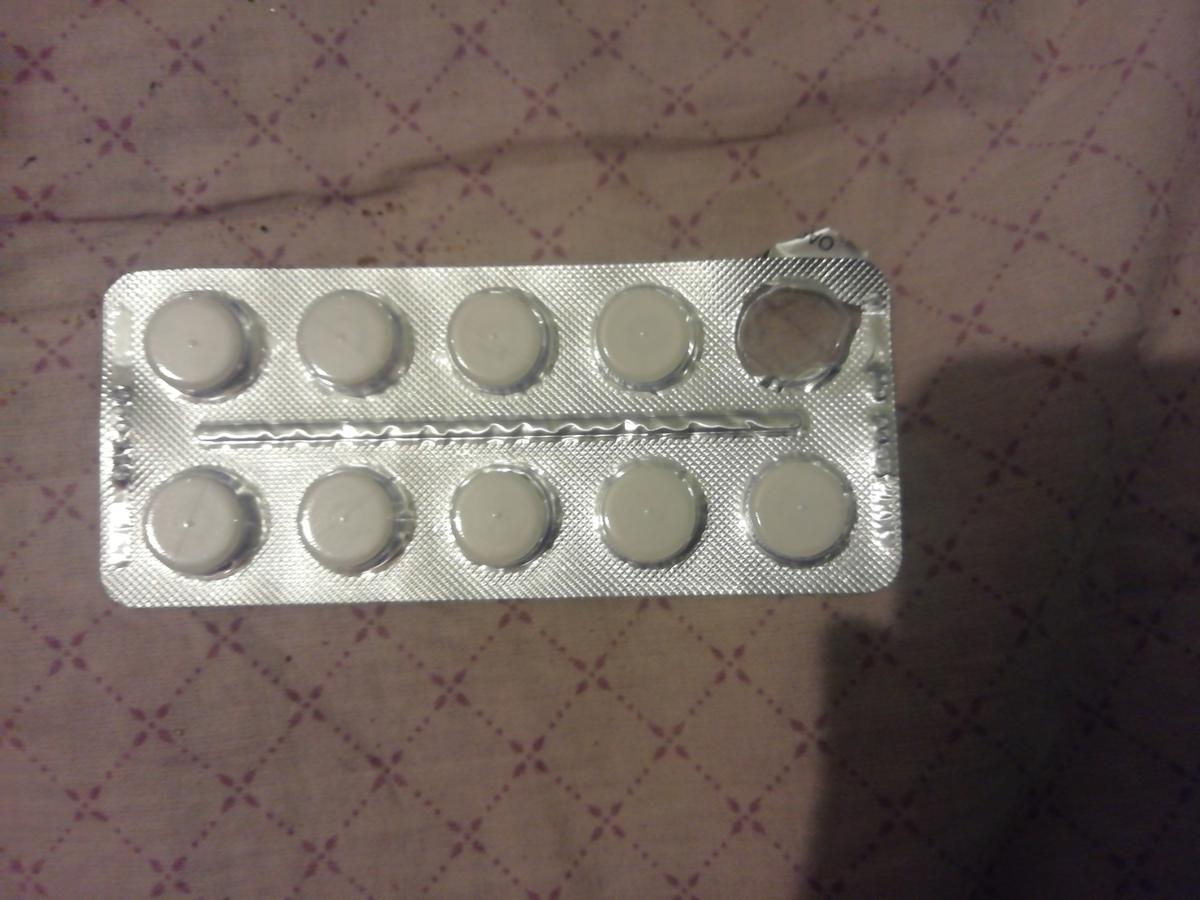tablet: (146, 285, 268, 407), (291, 283, 413, 405), (438, 281, 560, 403), (586, 276, 708, 398), (738, 446, 860, 568), (589, 448, 711, 570), (447, 455, 569, 577), (294, 459, 416, 581), (141, 458, 263, 580)
